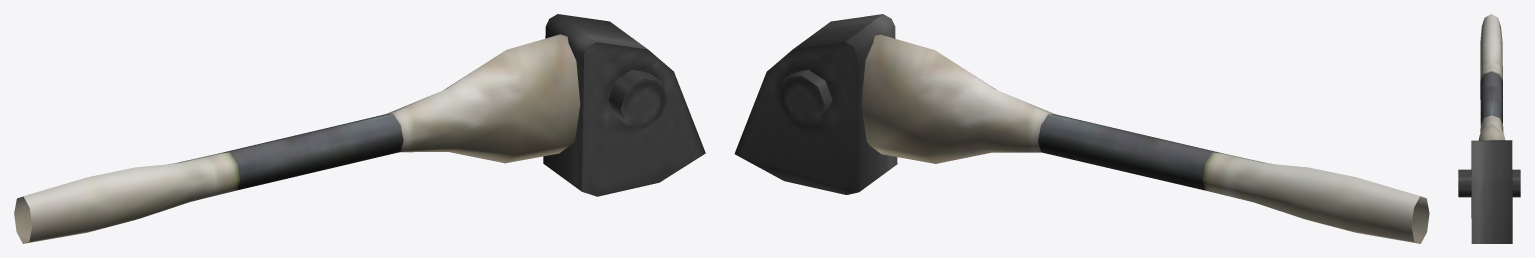
Rendered from diff_rod_right_link.dae.
3 views of the same model, side by side, from view 1: azimuth 30°, elevation 25°; view 2: azimuth 150°, elevation 25°; view 3: azimuth 270°, elevation 25° (orthographic). The views are drawn at different scales.
Parts seen in each view (by area): view 1: diff_rod_right_link; view 2: diff_rod_right_link; view 3: diff_rod_right_link.
Boxes of the visible parts, <box> form: diff_rod_right_link: <box>14,14,705,243</box>; diff_rod_right_link: <box>734,14,1429,243</box>; diff_rod_right_link: <box>1458,14,1520,243</box>.
Bounding box in the file's own units: 0.4061 × 0.0614 × 0.0924.
Materials: 1 (1 with a texture image).
